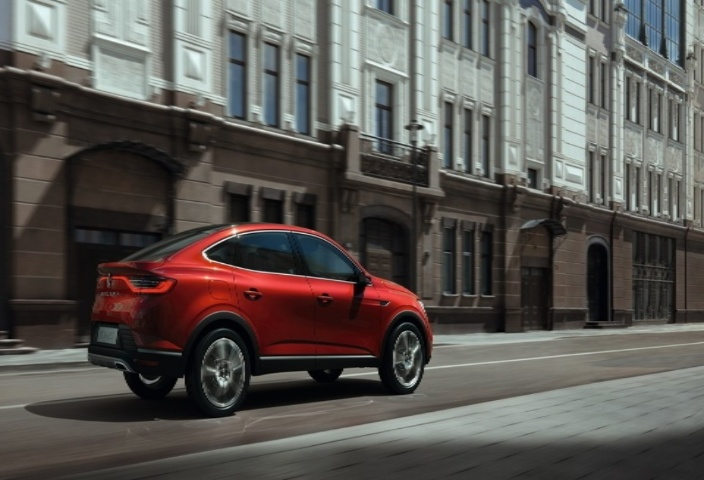camper: (52, 188, 439, 425)
